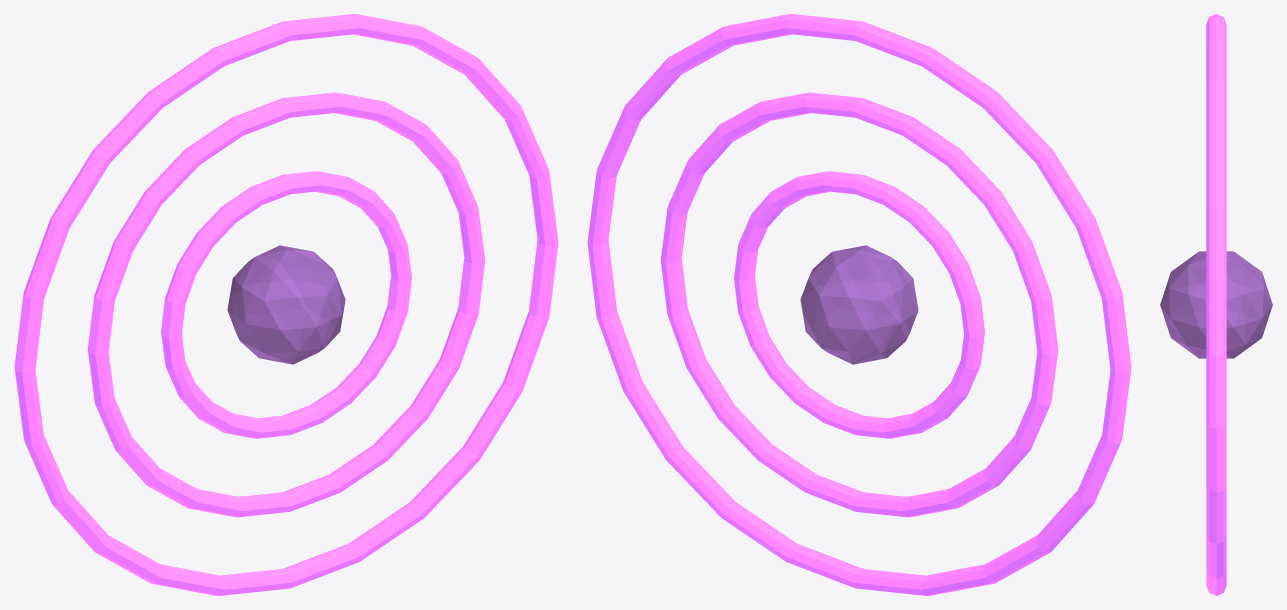
The model's file is echo-warden-awakening.glb.
The picture shows the model from 3 angles, left to right: view 1: azimuth 30°, elevation 25°; view 2: azimuth 150°, elevation 25°; view 3: azimuth 270°, elevation 25°; orthographic projection. The views are drawn at different scales.
Parts seen in each view (by area): view 1: awakening-ring-2, awakening-ring-1, awakening-ring-0, awakening-flare-core; view 2: awakening-ring-2, awakening-ring-1, awakening-ring-0, awakening-flare-core; view 3: awakening-ring-2, awakening-flare-core.
Boxes of the visible parts, <box> form: awakening-ring-2: <box>14,14,558,595</box>; awakening-ring-1: <box>87,92,485,517</box>; awakening-ring-0: <box>161,171,411,438</box>; awakening-flare-core: <box>227,245,345,364</box>; awakening-ring-2: <box>587,14,1131,595</box>; awakening-ring-1: <box>660,92,1058,517</box>; awakening-ring-0: <box>734,171,984,438</box>; awakening-flare-core: <box>800,245,918,364</box>; awakening-ring-2: <box>1206,14,1226,595</box>; awakening-flare-core: <box>1160,251,1272,358</box>.
Size of the model in its own units: 1.04 by 1.04 by 0.2.
2 materials, 2 textured.
